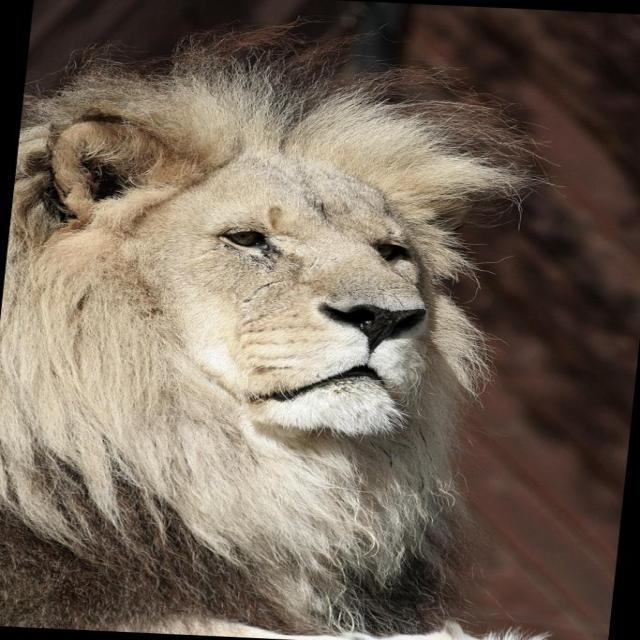Lion: (0, 0, 610, 639)
